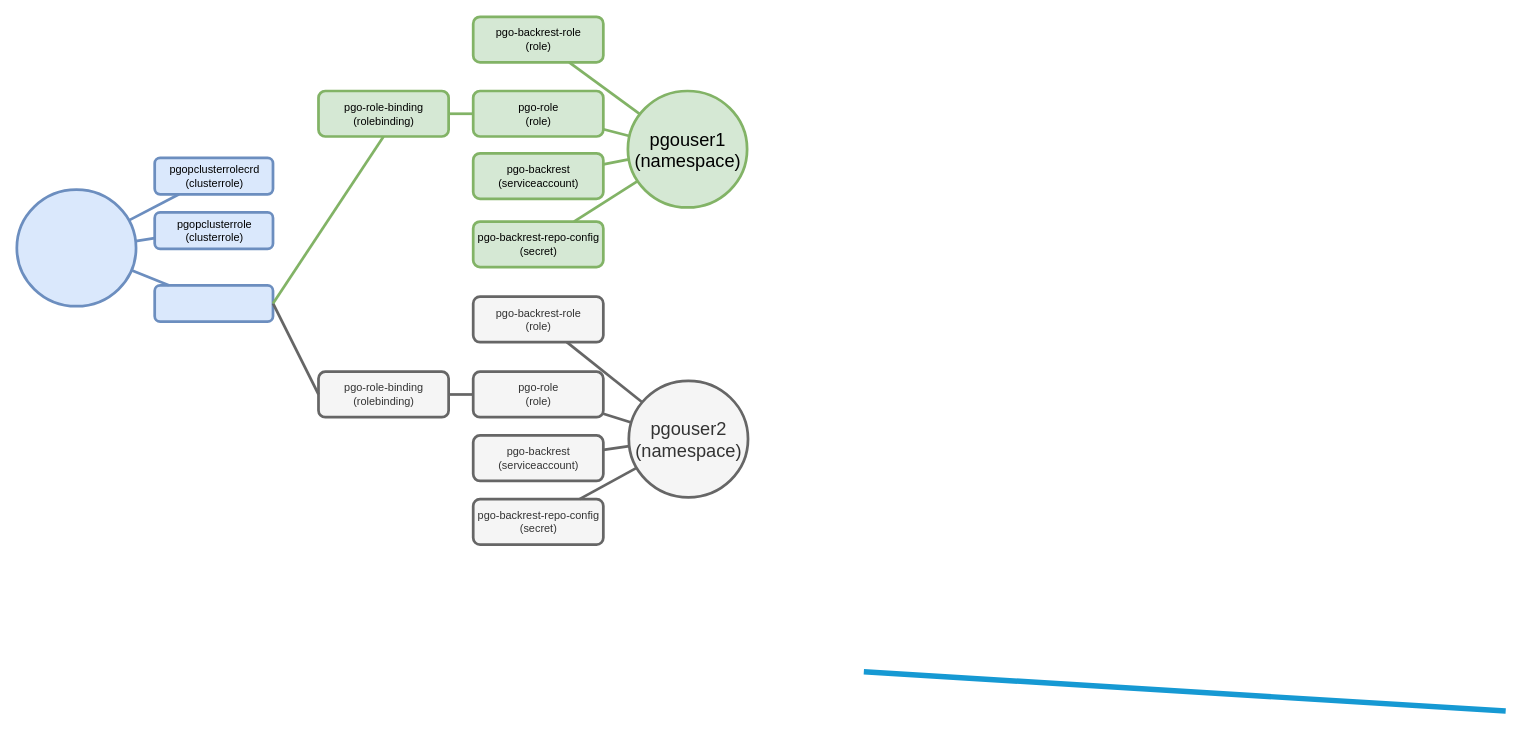
This 1525x731 diagram has some shape labels left out. The box of each missing label's shape, as (x1, y1, x2, y2) in pixels:
pgo (namespace): (15, 188, 137, 307)
postgres-operator (serviceaccount): (153, 283, 274, 323)
